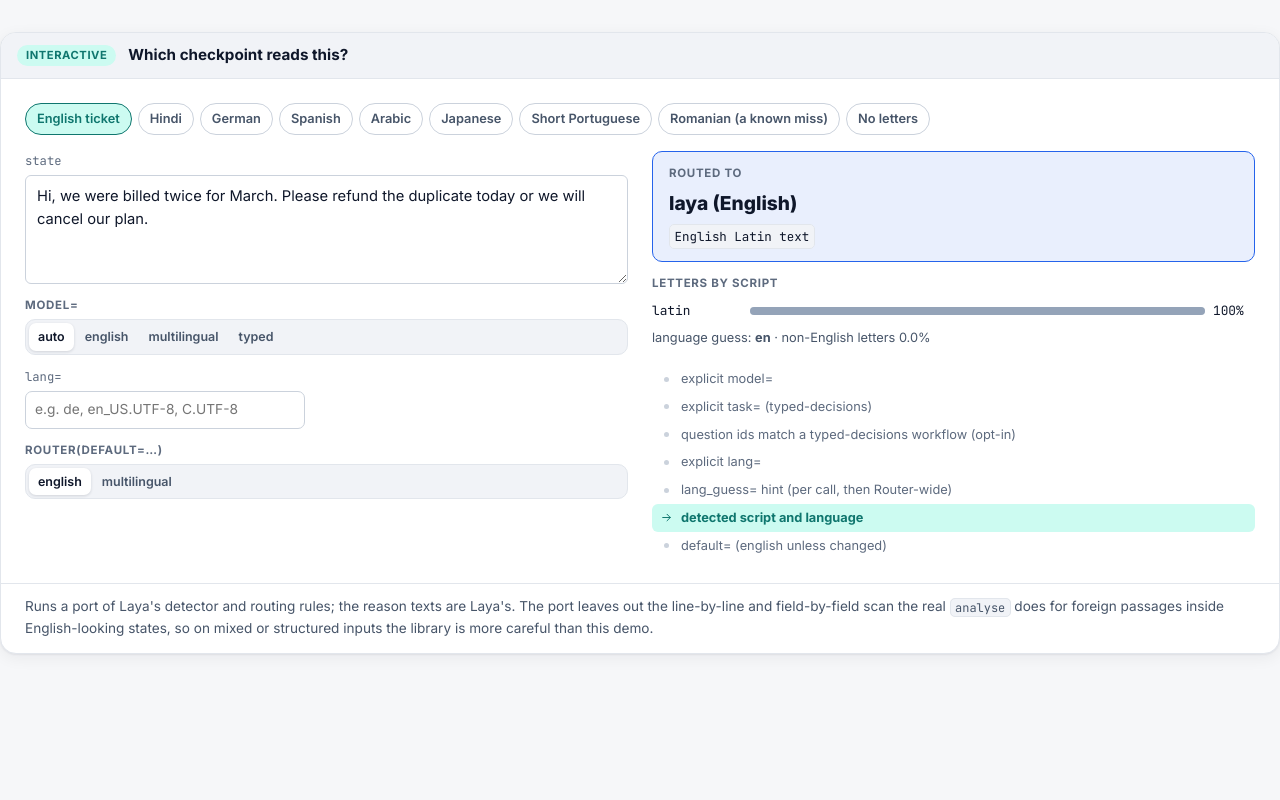
Test: RouterDemo › changes the default for undecided text
Click the button "Short Portuguese". click: (586, 119)
box: top-left (519, 103), bottom-right (652, 135)
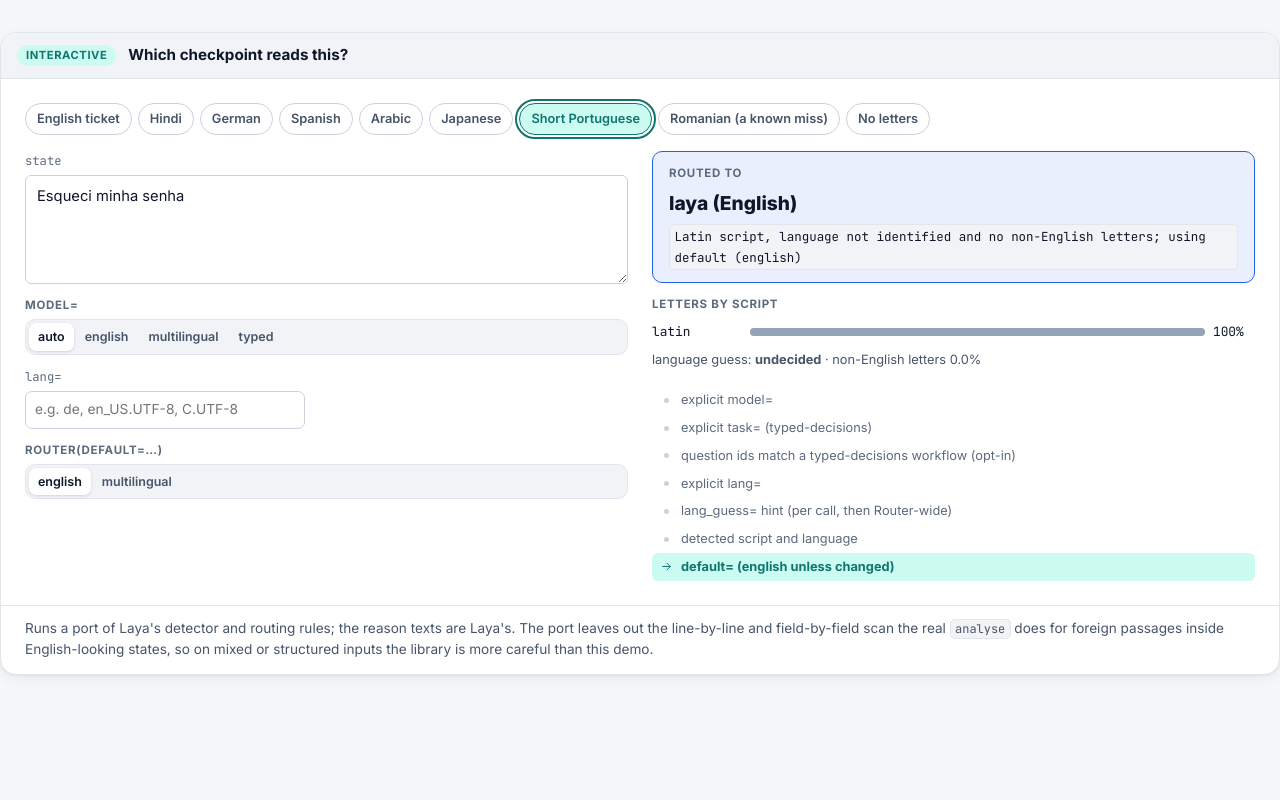
Now the text "using default (english)" is shown, box top-left (674, 228), bottom-right (1206, 266)
Click the radio button labelled "multilingual" below "Router(default=…)". click: (137, 482)
box: top-left (93, 468), bottom-right (181, 495)
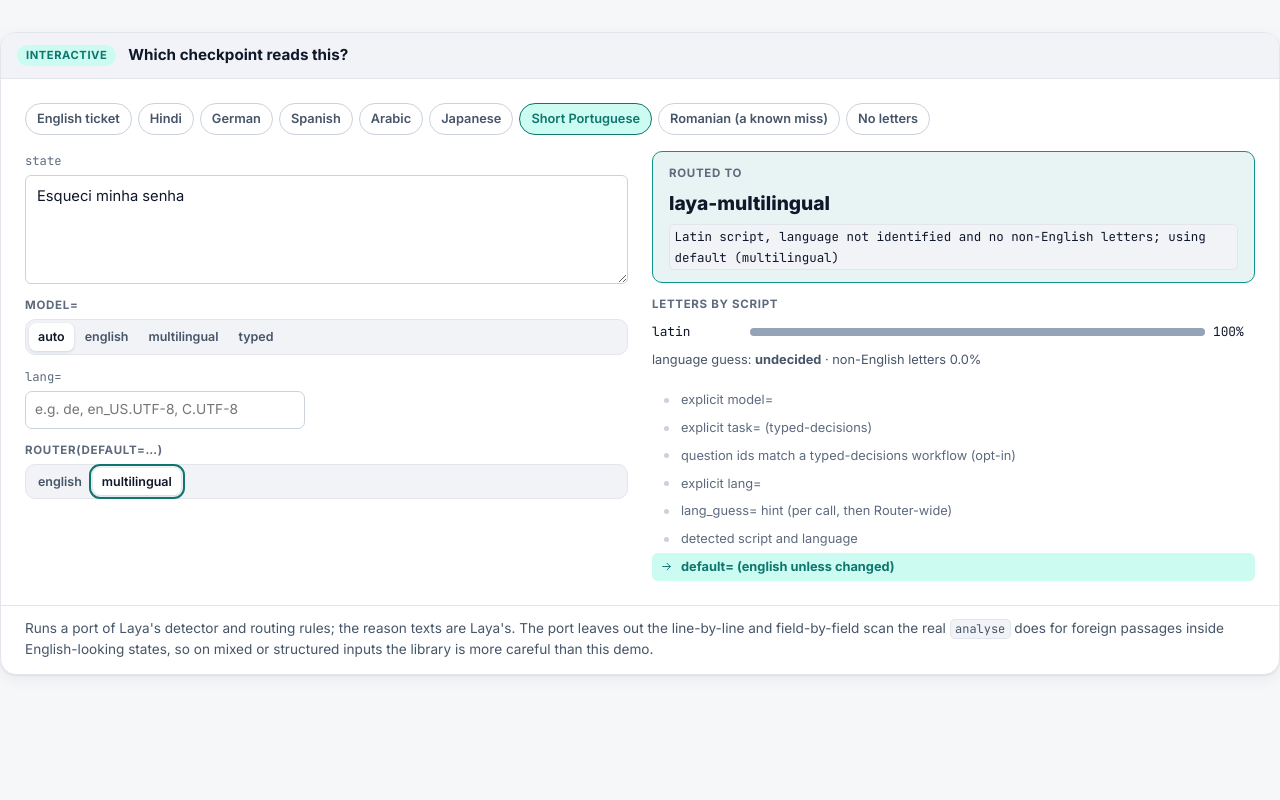
Now the text "using default (multilingual)" is shown, box top-left (674, 228), bottom-right (1206, 266)
